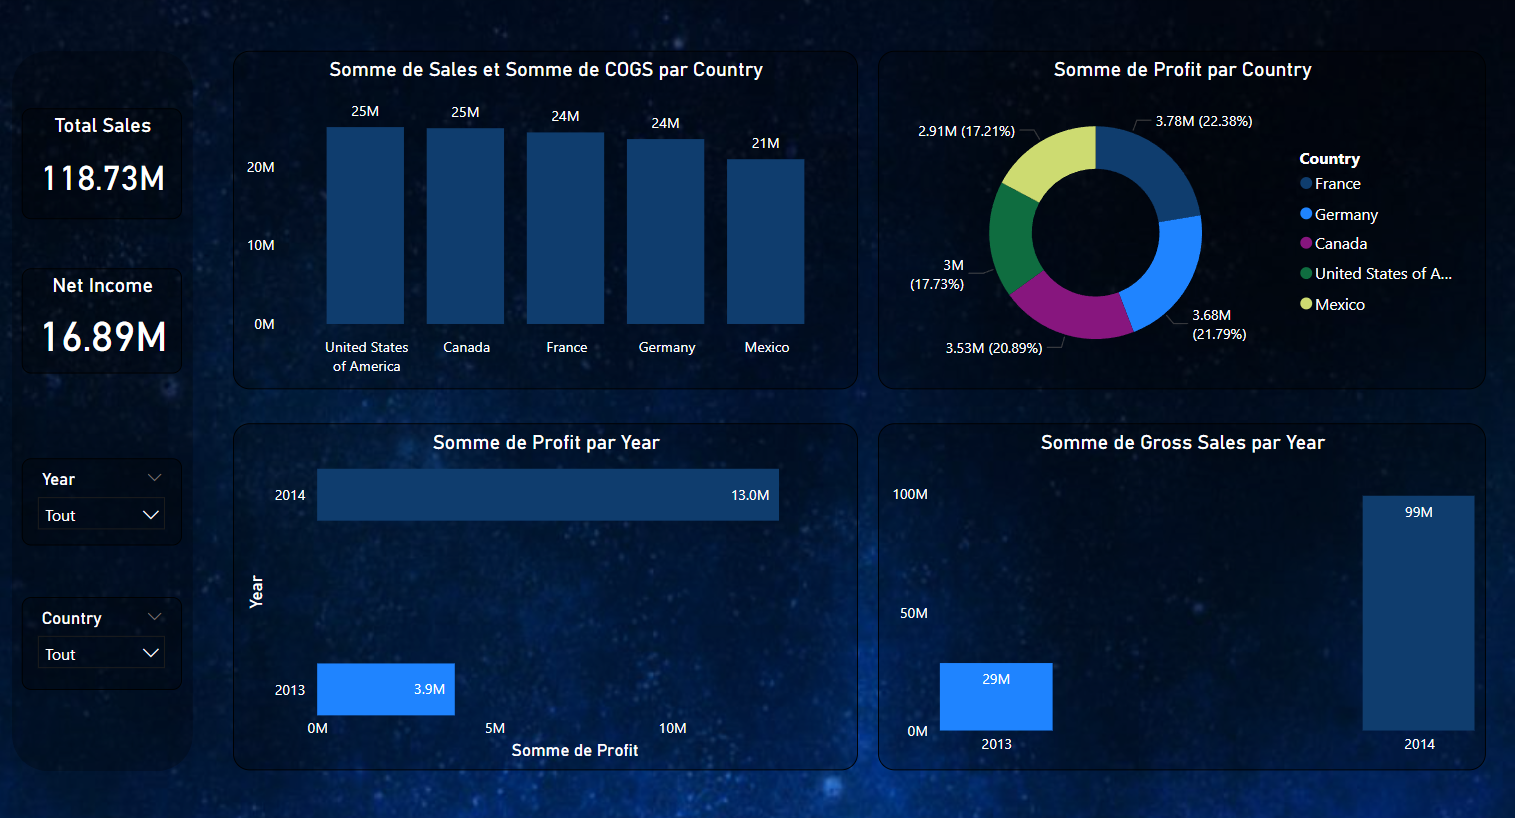

Layout of this report page (visuals, bound fields, positions):
{"tool":"powerbi","page":{"name":"Page 3","canvas":[1280,720],"ordinal":2},"visuals":[{"type":"clusteredColumnChart","fields":{"Category":["financials.Country"],"Y":["Sum(financials. Sales)"]},"box":[197.9,45,526.9,285.3],"z":0},{"type":"donutChart","fields":{"Category":["financials.Country"],"Y":["Sum(financials.Profit)"]},"box":[742.8,45,512.8,285.3],"z":1000},{"type":"barChart","fields":{"Category":["financials.Date.Variation.Date Hierarchy.Year"],"Y":["Sum(financials.Profit)"]},"box":[197.9,359.8,526.9,293],"z":2000},{"type":"columnChart","fields":{"Category":["financials.Date.Variation.Date Hierarchy.Year"],"Y":["Sum(financials.Gross Sales)"]},"box":[742.8,359.8,512.8,293],"z":3000},{"type":"shape","box":[11.6,45,152.9,607.9],"z":4000},{"type":"slicer","fields":{"Values":["financials.Country"]},"box":[20.6,506.3,134.9,78.4],"z":5000},{"type":"slicer","fields":{"Values":["financials.Year"]},"box":[20.6,389.4,134.9,73.3],"z":6000},{"type":"card","title":"Net Income","fields":{"Values":["Sum(financials.Net Income)"]},"box":[20.6,228.8,134.9,88.7],"z":8000},{"type":"card","title":"Total Sales","fields":{"Values":["financials.dax_totalsales"]},"box":[20.6,93.8,134.9,93.8],"z":9000}]}

Visuals, with their boxes on the page's 1280x720 design canvas (x1, y1, x2, y2). These are canvas units, not pixel positions in the 1515x818 screenshot, which may show the page scaled, cropped or inside an application window:
clusteredColumnChart - financials.Country x Sum(financials. Sales): <region>198, 45, 725, 330</region>
donutChart - financials.Country x Sum(financials.Profit): <region>743, 45, 1256, 330</region>
barChart - financials.Date.Variation.Date Hierarchy.Year x Sum(financials.Profit): <region>198, 360, 725, 653</region>
columnChart - financials.Date.Variation.Date Hierarchy.Year x Sum(financials.Gross Sales): <region>743, 360, 1256, 653</region>
shape: <region>12, 45, 164, 653</region>
slicer - financials.Country: <region>21, 506, 156, 585</region>
slicer - financials.Year: <region>21, 389, 156, 463</region>
"Net Income" card: <region>21, 229, 156, 318</region>
"Total Sales" card: <region>21, 94, 156, 188</region>
